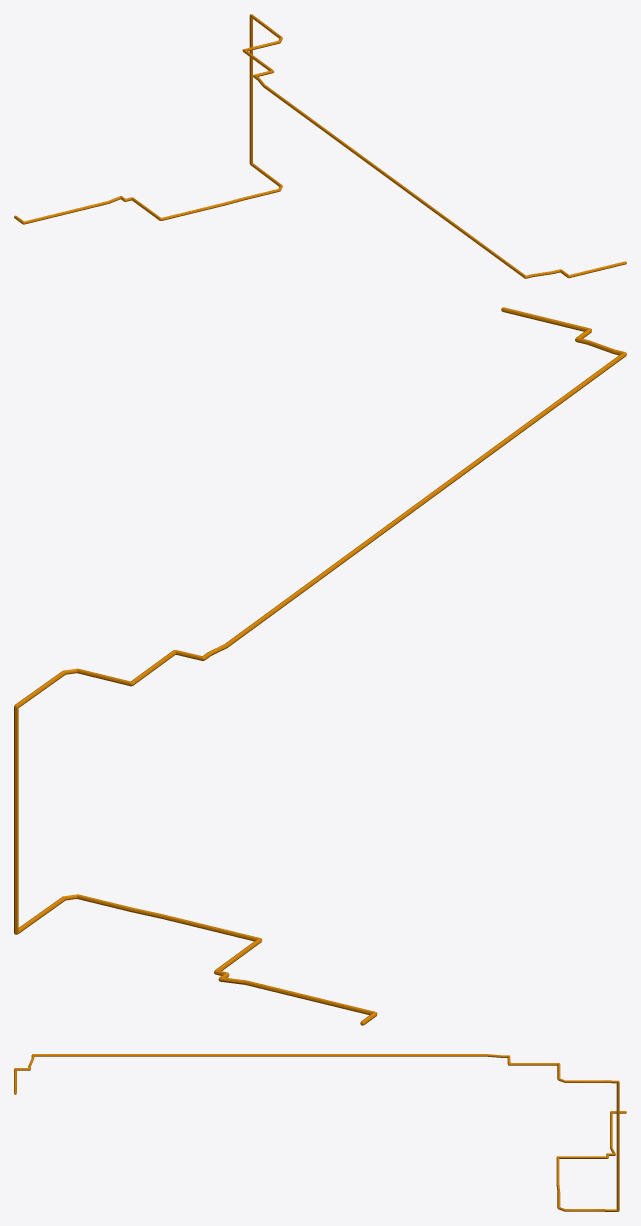
3 renders of one model, top to bottom at view 1: azimuth 30°, elevation 25°; view 2: azimuth 150°, elevation 25°; view 3: azimuth 270°, elevation 25°, orthographic. The views are drawn at different scales.
Size of the model in its own units: 1848 by 1020 by 4317.
